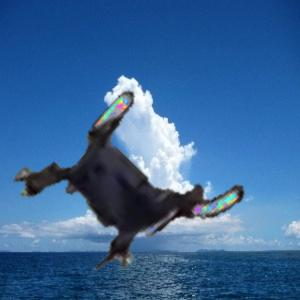drone: (28, 87, 231, 290)
